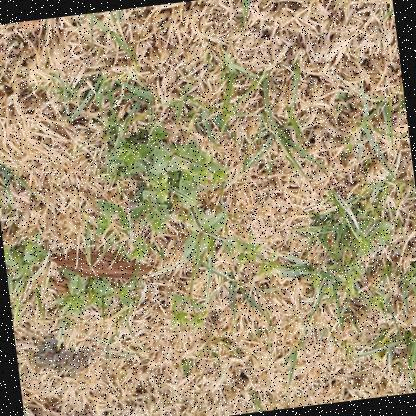Weeds: (82, 100, 291, 337), (301, 202, 407, 319), (4, 238, 116, 326)
